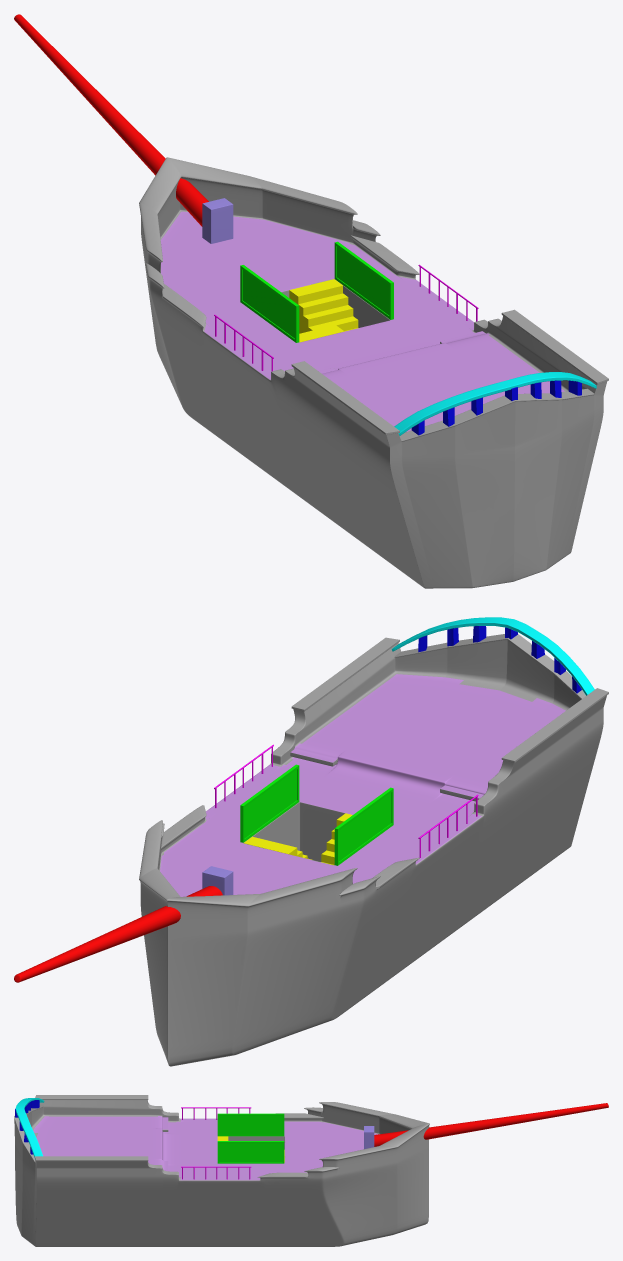
Rendered from theeleanor.fbx.
3 views of the same model, one above another, from view 1: azimuth 30°, elevation 25°; view 2: azimuth 150°, elevation 25°; view 3: azimuth 270°, elevation 25° (orthographic). The views are drawn at different scales.
Visible parts, largest first — view 1: pCube1, pCylinder33, pCube21, pCube26, pCube27, pCube2, pCube23, pCube3; view 2: pCube1, pCylinder33, pCube27, pCube26, pCube2, pCube3, pCube23; view 3: pCube1, pCylinder33, pCube27, pCube26, pCube2, pCylinder35, pCylinder34, pCube23, pCube3.
Part boxes in pixels (bbox=[...]): pCube1: bbox=[139, 157, 608, 588]; pCylinder33: bbox=[14, 14, 208, 226]; pCube21: bbox=[289, 279, 358, 333]; pCube26: bbox=[334, 241, 393, 319]; pCube27: bbox=[240, 265, 299, 342]; pCube2: bbox=[394, 372, 596, 435]; pCube23: bbox=[202, 198, 233, 243]; pCube3: bbox=[411, 380, 581, 435]; pCube1: bbox=[139, 634, 608, 1066]; pCylinder33: bbox=[14, 886, 222, 982]; pCube27: bbox=[334, 787, 393, 865]; pCube26: bbox=[240, 764, 299, 842]; pCube2: bbox=[391, 617, 594, 695]; pCube3: bbox=[418, 626, 581, 693]; pCube23: bbox=[202, 866, 233, 895]; pCube1: bbox=[14, 1095, 429, 1246]; pCylinder33: bbox=[374, 1103, 608, 1146]; pCube27: bbox=[217, 1113, 284, 1136]; pCube26: bbox=[217, 1141, 284, 1163]; pCube2: bbox=[15, 1098, 44, 1159]; pCylinder35: bbox=[181, 1166, 251, 1179]; pCylinder34: bbox=[181, 1107, 251, 1119]; pCube23: bbox=[364, 1126, 374, 1149]; pCube3: bbox=[15, 1100, 39, 1154].
Bounding box in the file's own units: 14.54 × 12.78 × 56.29.
